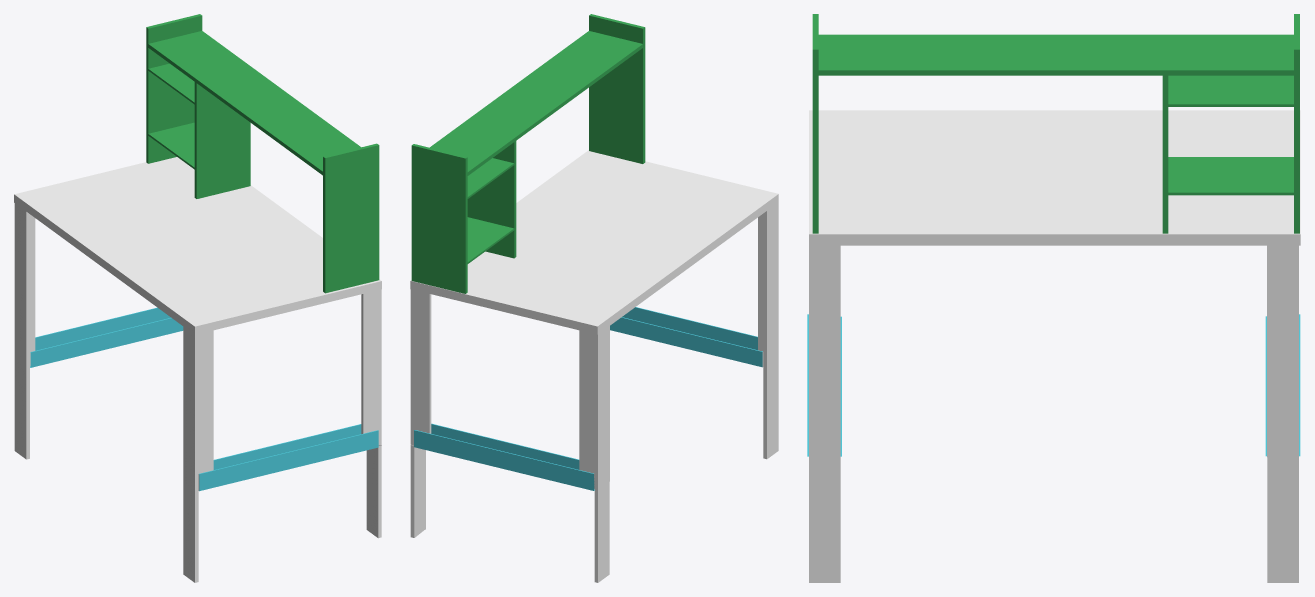
File: SM_desk.fbx
3 views of the same model, side by side, from view 1: azimuth 30°, elevation 25°; view 2: azimuth 150°, elevation 25°; view 3: azimuth 270°, elevation 25° (orthographic). The views are drawn at different scales.
Parts seen in each view (by area): view 1: Asset:Asset:Box030; view 2: Asset:Asset:Box030; view 3: Asset:Asset:Box030.
Part boxes in pixels (bbox=[...]): Asset:Asset:Box030: bbox=[14, 14, 381, 582]; Asset:Asset:Box030: bbox=[410, 14, 778, 582]; Asset:Asset:Box030: bbox=[807, 14, 1300, 582].
Size of the model in its own units: 579 by 1158 by 972.
